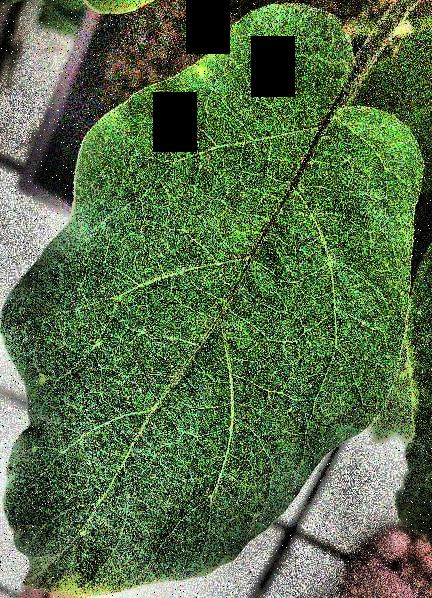HEALTHY: (0, 1, 432, 598)
